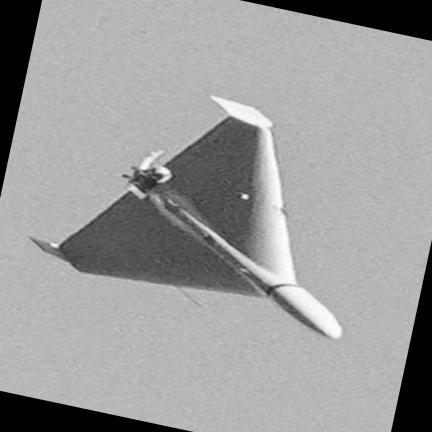Shahed: (29, 95, 341, 339)
